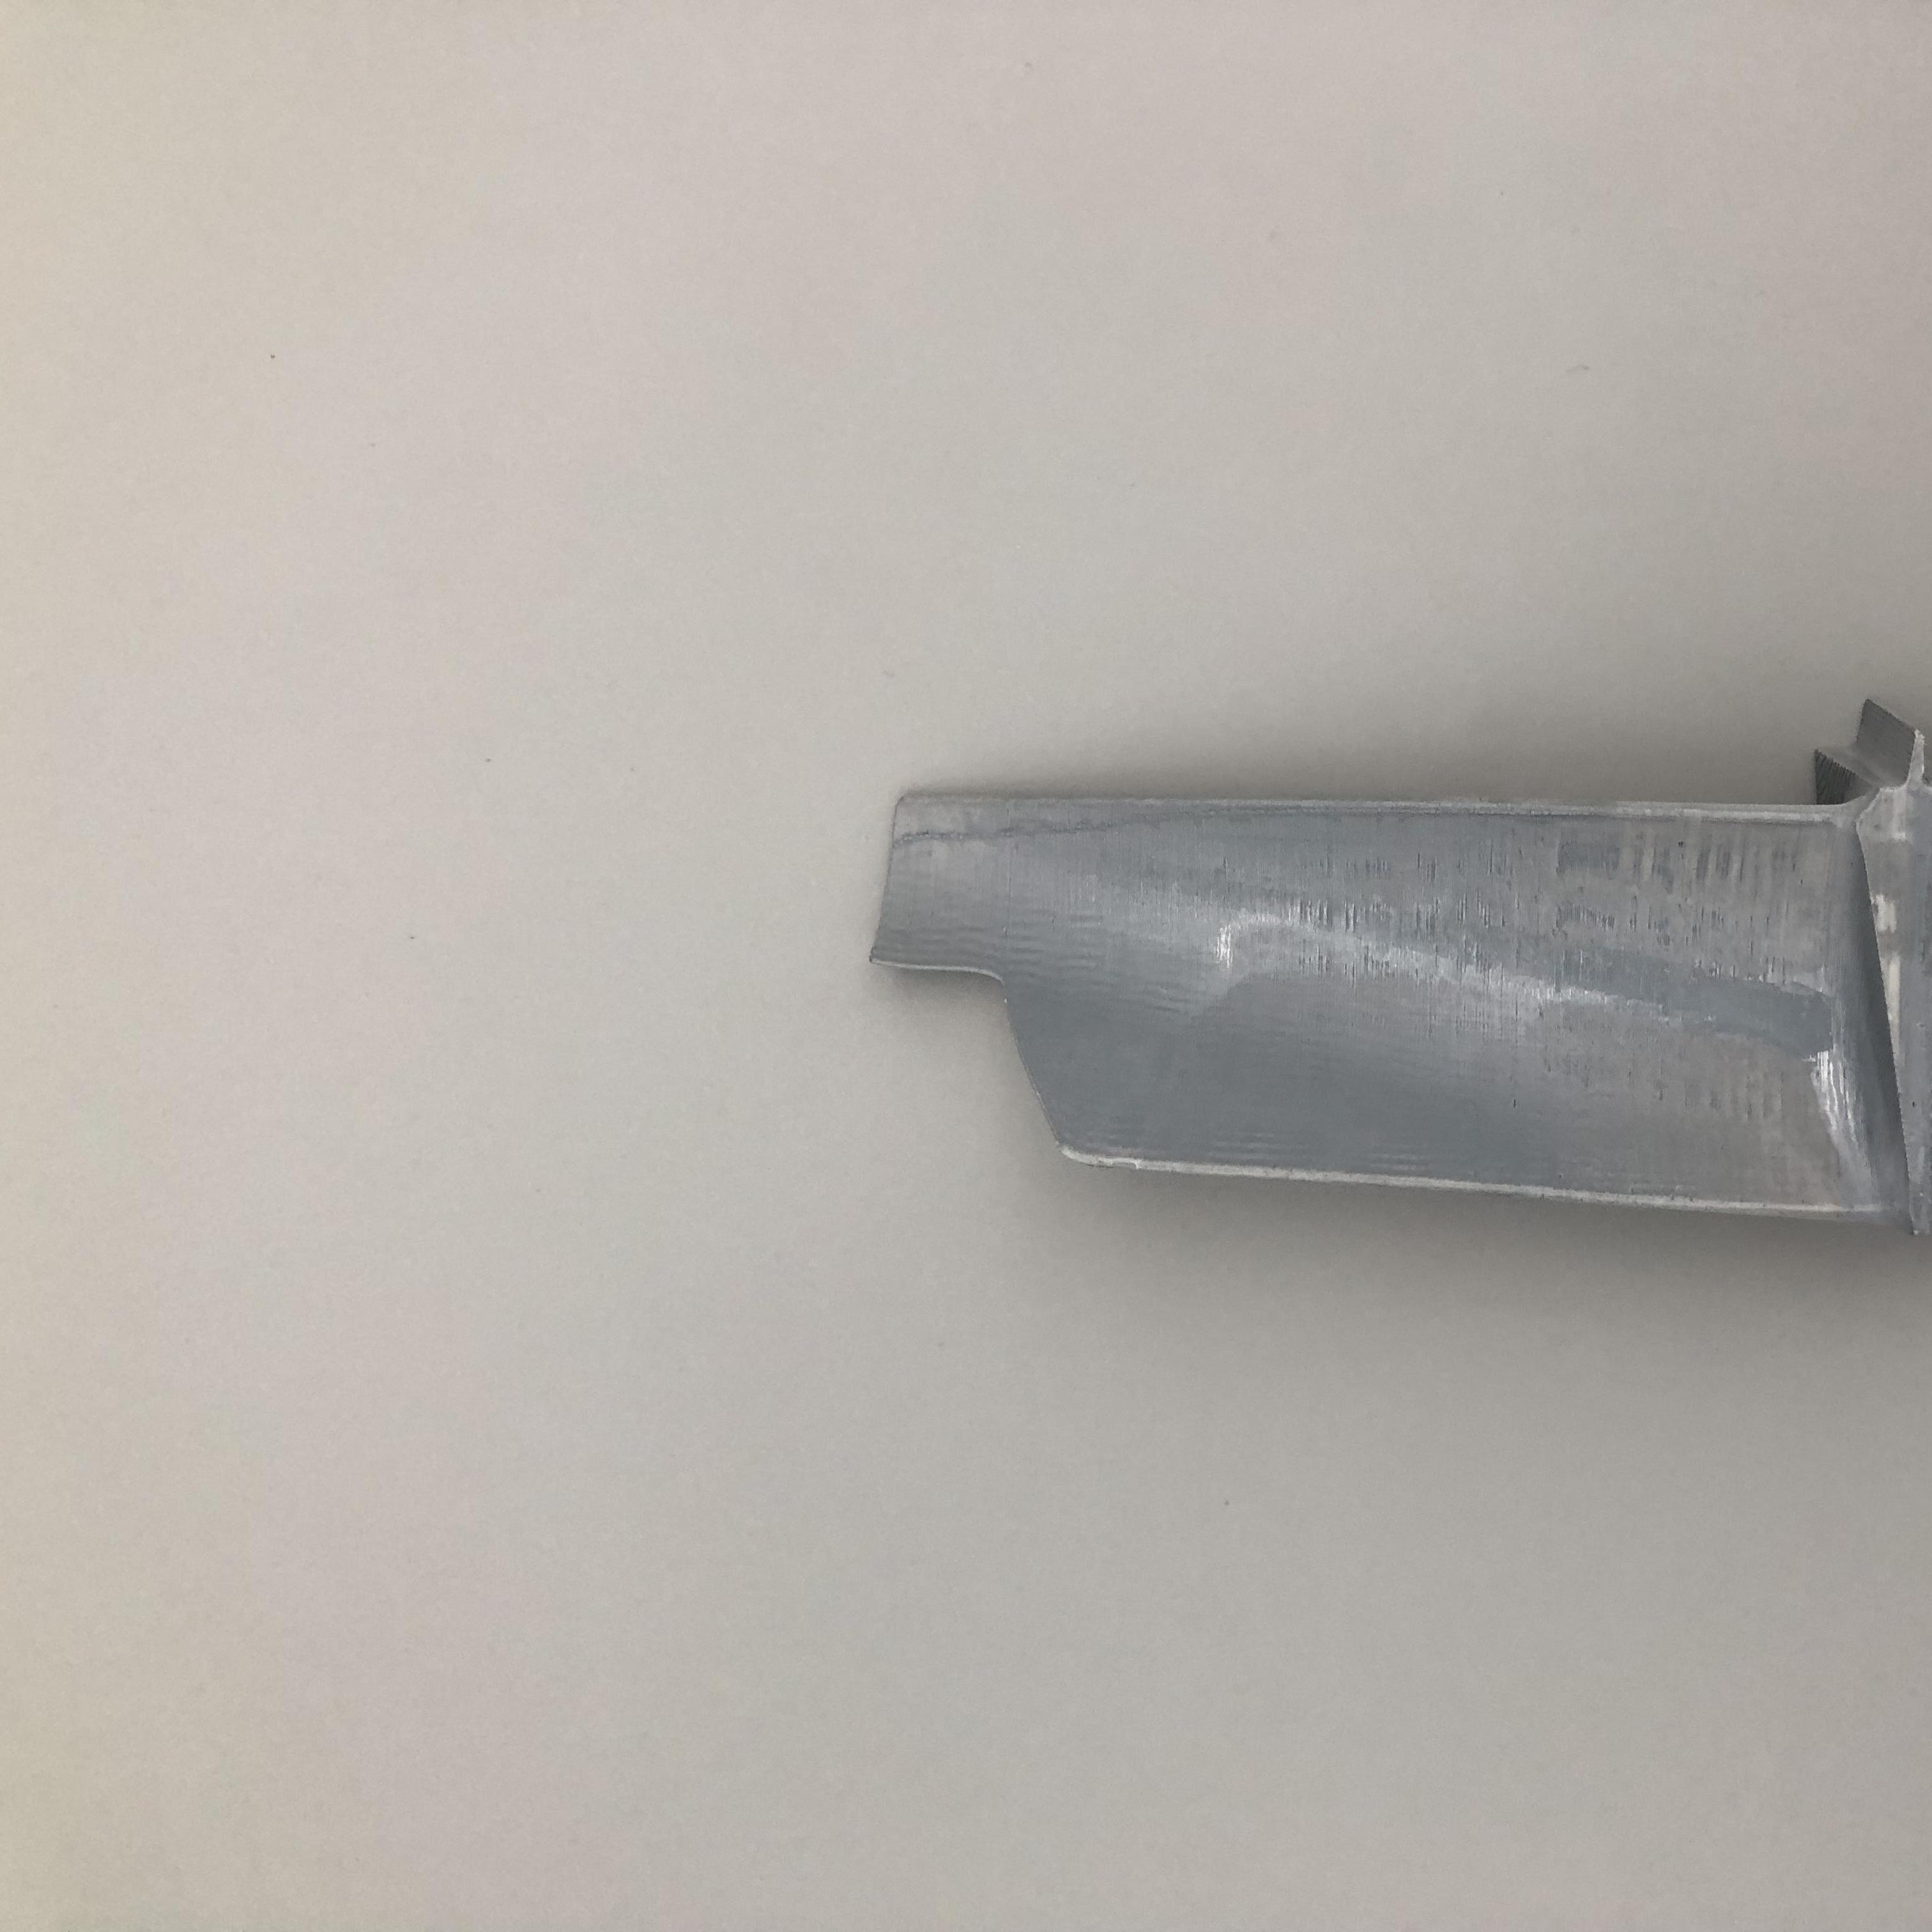fracture: (863, 911, 1132, 1157)
